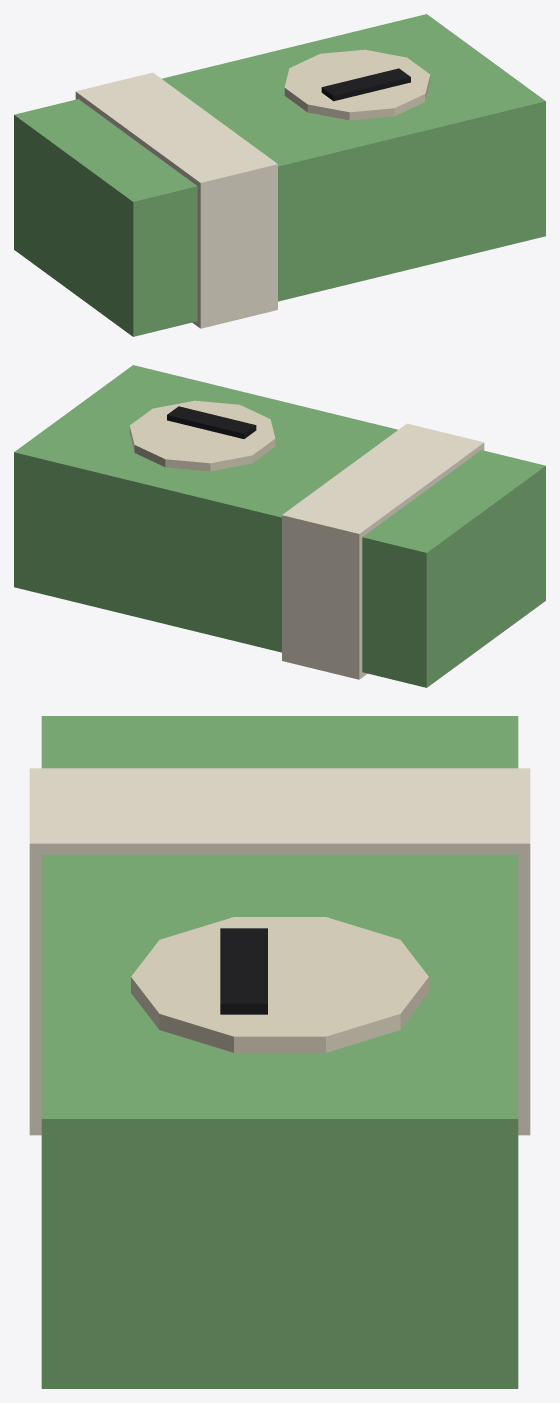
File: fake_bills.glb
3 renders of one model, top to bottom at view 1: azimuth 30°, elevation 25°; view 2: azimuth 150°, elevation 25°; view 3: azimuth 270°, elevation 25°, orthographic. The views are drawn at different scales.
Visible parts, largest first — view 1: bills_fake_bill_green, band_bill_band, bills_bill_face, bills_bill_ink; view 2: bills_fake_bill_green, band_bill_band, bills_bill_face, bills_bill_ink; view 3: bills_fake_bill_green, band_bill_band, bills_bill_face, bills_bill_ink.
Part boxes in pixels (<box>): bills_fake_bill_green: <box>14,14,545,336</box>; band_bill_band: <box>75,72,277,328</box>; bills_bill_face: <box>284,49,430,120</box>; bills_bill_ink: <box>321,68,410,101</box>; bills_fake_bill_green: <box>14,365,545,687</box>; band_bill_band: <box>282,423,484,679</box>; bills_bill_face: <box>129,400,275,471</box>; bills_bill_ink: <box>167,406,256,438</box>; bills_fake_bill_green: <box>41,716,518,1388</box>; band_bill_band: <box>29,768,530,1135</box>; bills_bill_face: <box>131,917,428,1052</box>; bills_bill_ink: <box>220,928,267,1014</box>.
Bounding box in the file's own units: 0.16 × 0.057 × 0.084.
